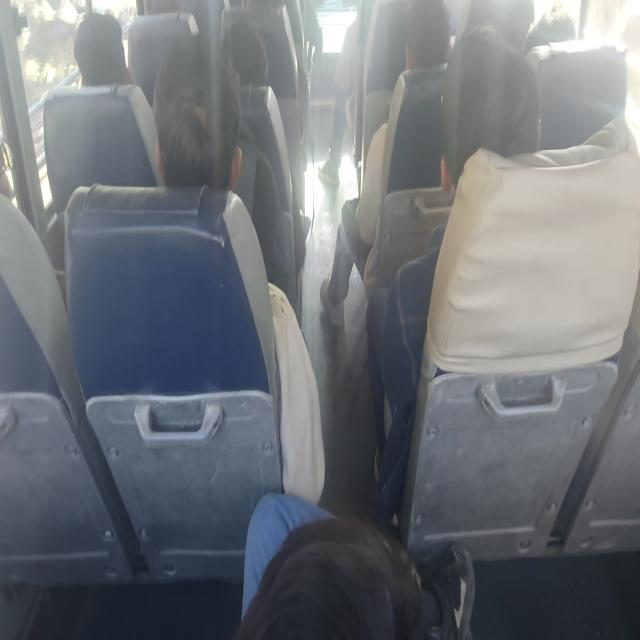person: (216, 501, 458, 640), (146, 41, 247, 219), (446, 33, 536, 174), (377, 0, 450, 83), (77, 10, 131, 99), (213, 17, 271, 99), (505, 3, 592, 51), (0, 105, 32, 214)
